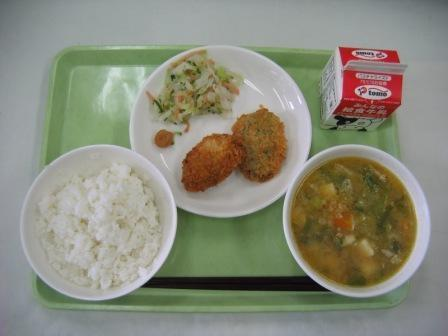Fish: (143, 45, 242, 117)
Milk: (319, 45, 412, 133)
Rice: (29, 151, 181, 292)
Soups: (286, 151, 421, 287)
cutlet: (184, 104, 286, 196)
